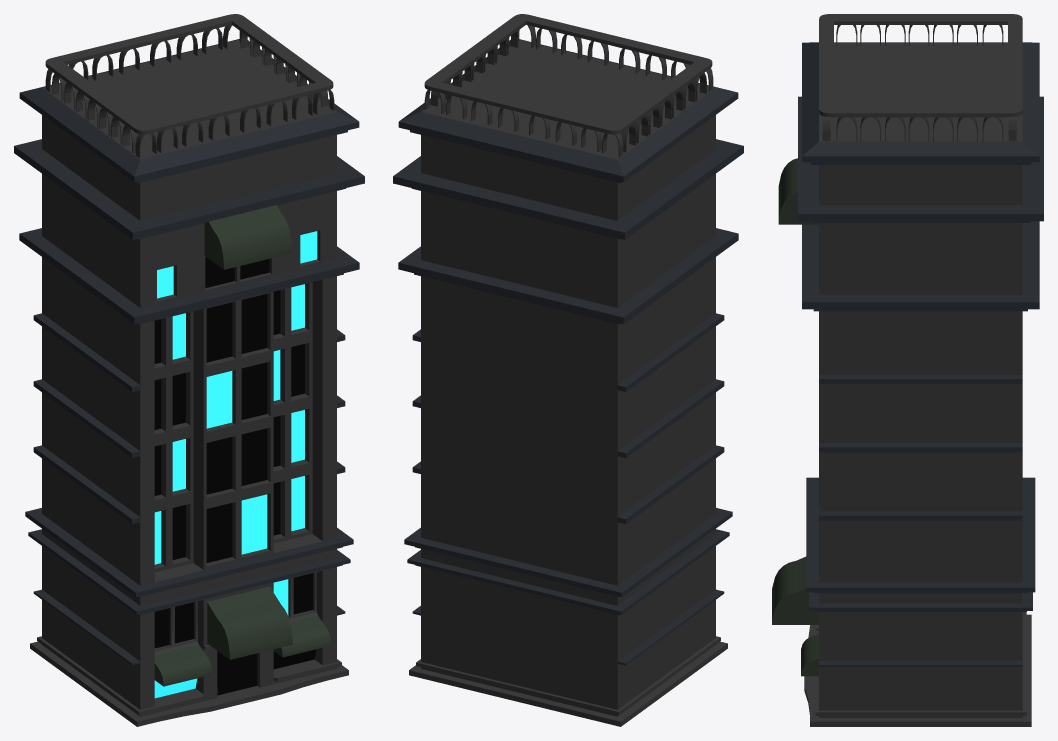
Rendered from Building1 blue.fbx.
The picture shows the model from 3 angles, left to right: view 1: azimuth 30°, elevation 25°; view 2: azimuth 150°, elevation 25°; view 3: azimuth 270°, elevation 25°; orthographic projection. The views are drawn at different scales.
Parts seen in each view (by area): view 1: building.002; view 2: building.002; view 3: building.002.
Boxes of the visible parts, bbox=[...] form: building.002: bbox=[14, 14, 364, 726]; building.002: bbox=[393, 14, 743, 726]; building.002: bbox=[772, 14, 1043, 726].
Bounding box in the file's own units: 163 × 397 × 160.
